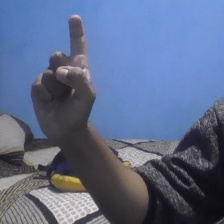X: (27, 14, 100, 143)
